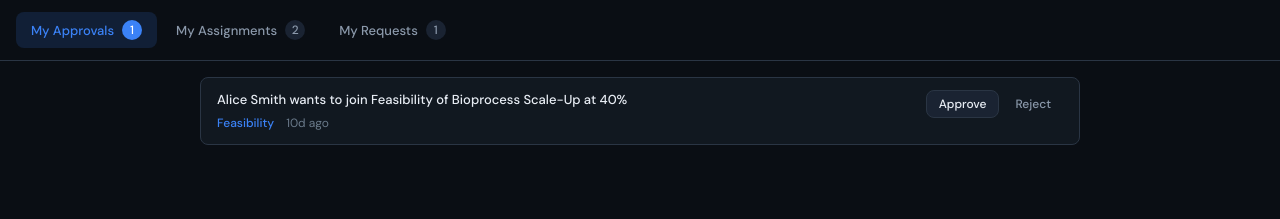
My Approvals › shows a failed decision in place
This screenshot has width=1280, height=219.
Click the button with aria-label "Approve Alice Smith".
click(962, 104)  # box top-left (926, 90), bottom-right (999, 118)
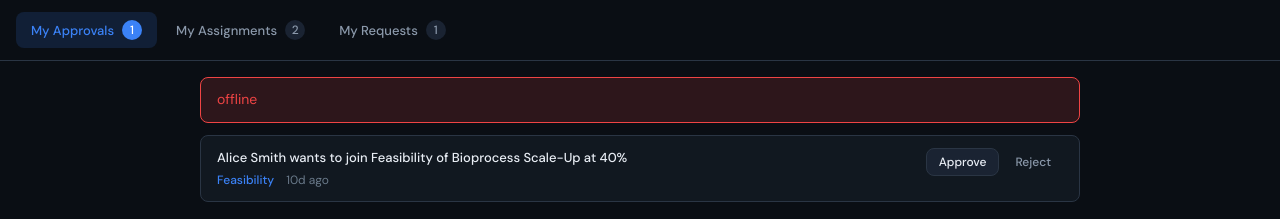
Result: the message reads "offline" at top-left (217, 90), bottom-right (257, 108)
